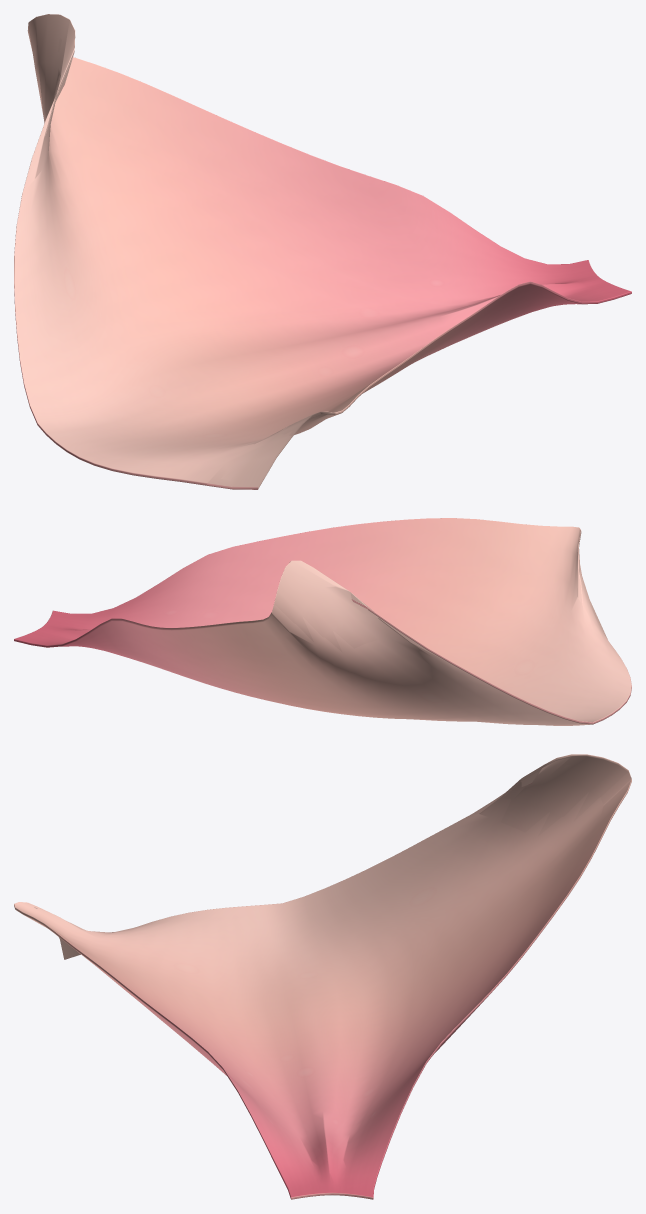
The model's file is papri1.glb.
The picture shows the model from 3 angles, top to bottom: view 1: azimuth 30°, elevation 25°; view 2: azimuth 150°, elevation 25°; view 3: azimuth 270°, elevation 25°; orthographic projection. The views are drawn at different scales.
Parts seen in each view (by area): view 1: Papri_01; view 2: Papri_01; view 3: Papri_01.
Boxes of the visible parts, x1=… form: Papri_01: x1=14, y1=14, x2=631, y2=489; Papri_01: x1=14, y1=518, x2=631, y2=725; Papri_01: x1=14, y1=754, x2=631, y2=1199.
Bounding box in the file's own units: 1.09 × 0.4712 × 1.02.
1 material, 1 textured.
